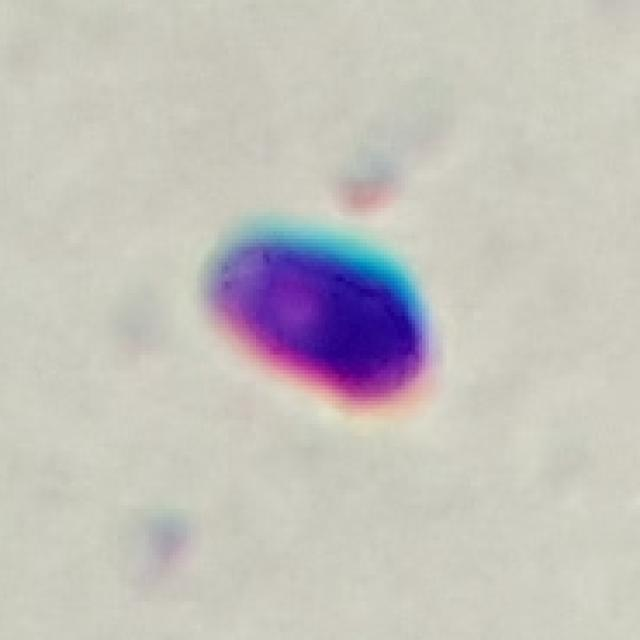non-sperm: (205, 223, 432, 410)
